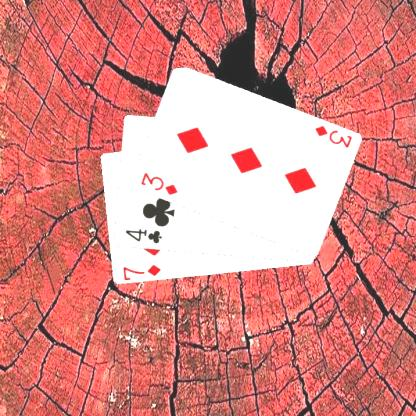3D: (138, 170, 179, 197), (312, 123, 354, 149)
4C: (122, 227, 163, 245)
7D: (120, 262, 162, 280)
